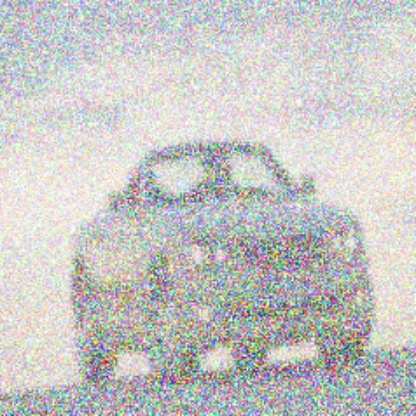Vehicle: (71, 140, 375, 386)
